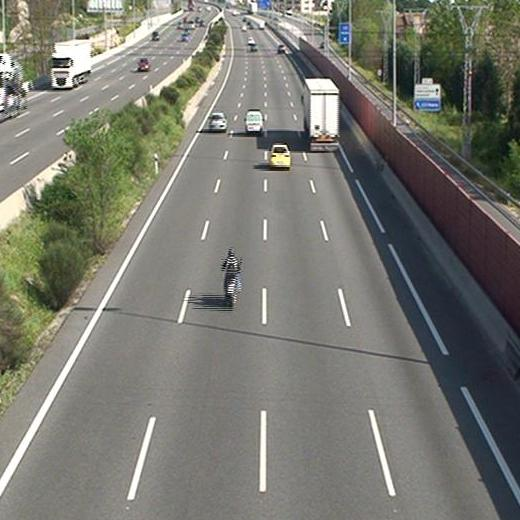car: (269, 145, 291, 169), (209, 113, 227, 132)
motorcycle: (222, 248, 242, 306)
truck: (303, 78, 339, 151)
van: (244, 111, 263, 134)
